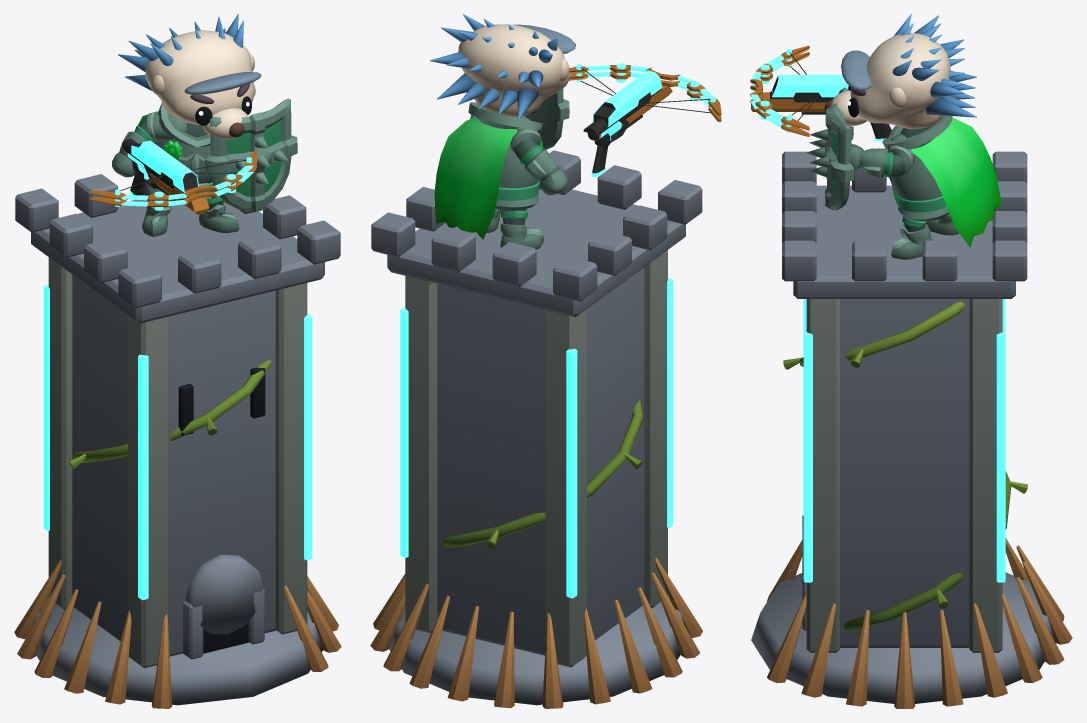
Rendered from tower_hedgehog_rail.glb.
3 renders of one model, left to right at view 1: azimuth 30°, elevation 25°; view 2: azimuth 150°, elevation 25°; view 3: azimuth 270°, elevation 25°, orthographic. The views are drawn at different scales.
Parts seen in each view (by area): view 1: CustomTowerBase_hedgehog_rail, Spike_Shield, HhHead, RailCrossbow_glow, Knight_Body, Knight_ArmRight, NativeHat_Visor, Knight_LegLeft, HhMuzzle, Knight_LegRight; view 2: CustomTowerBase_hedgehog_rail, Knight_Cape, HhHead, RailCrossbow_glow, Knight_Body, Knight_ArmRight, Spike_Shield, Knight_LegRight; view 3: CustomTowerBase_hedgehog_rail, Knight_Cape, HhHead, RailCrossbow_glow, Knight_Body, Spike_Shield, Knight_ArmLeft, Knight_LegLeft, NativeHat_Visor, QSpike.021.
Boxes of the visible parts, x1,y1,x2,y2 form: CustomTowerBase_hedgehog_rail: (14,174,341,708); Spike_Shield: (204,98,297,212); HhHead: (145,30,255,125); RailCrossbow_glow: (89,138,257,214); Knight_Body: (146,103,218,200); Knight_ArmRight: (112,112,186,177); NativeHat_Visor: (184,72,261,94); Knight_LegLeft: (199,196,239,233); HhMuzzle: (203,108,248,139); Knight_LegRight: (142,192,172,236); CustomTowerBase_hedgehog_rail: (370,150,702,708); Knight_Cape: (434,117,517,239); HhHead: (458,24,569,117); RailCrossbow_glow: (569,63,721,176); Knight_Body: (468,102,543,210); Knight_ArmRight: (510,116,567,195); Spike_Shield: (474,88,569,149); Knight_LegRight: (500,209,544,249); CustomTowerBase_hedgehog_rail: (751,151,1072,708); Knight_Cape: (911,117,1002,247); HhHead: (850,33,950,129); RailCrossbow_glow: (750,45,891,141); Knight_Body: (882,115,952,221); Spike_Shield: (806,87,854,210); Knight_ArmLeft: (851,134,915,177); Knight_LegLeft: (891,216,933,259); NativeHat_Visor: (841,50,871,90); QSpike.021: (926,97,976,117).
Size of the model in its own units: 1.12 by 2.26 by 1.07.
Materials: 10 (3 with a texture image).
